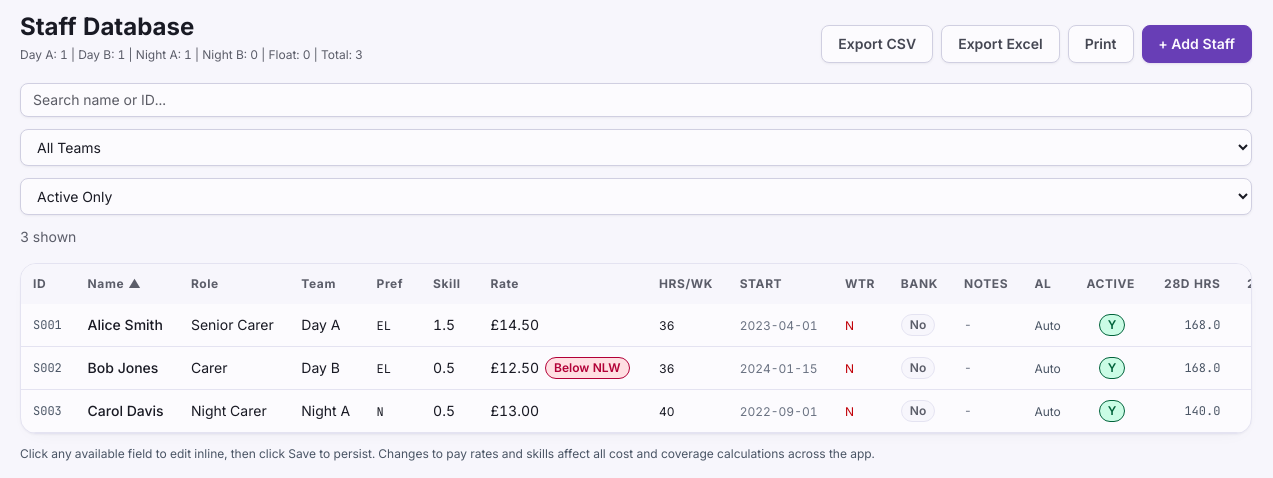
Test: StaffRegister › team filter narrows the list to selected team
Check: the button "Alice Smith" is shown, box [88, 315, 163, 335]
Select "Day B" in the dropdown showing "All Teams" at (636, 148), box [20, 129, 1252, 166]
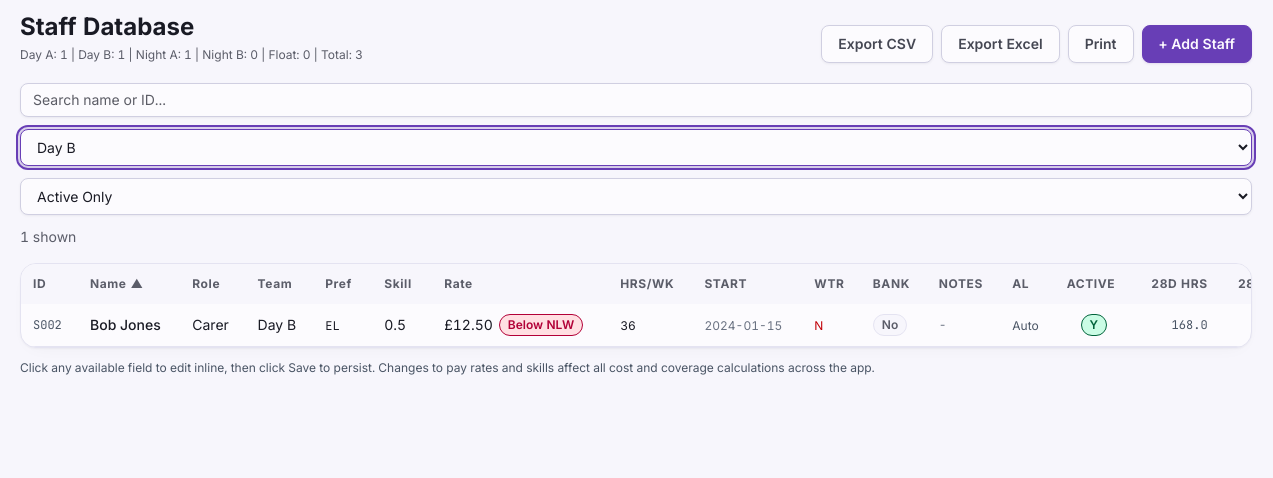
Check: the button "Bob Jones" is shown, box [90, 315, 161, 335]
Check: the button "Alice Smith" is gone
